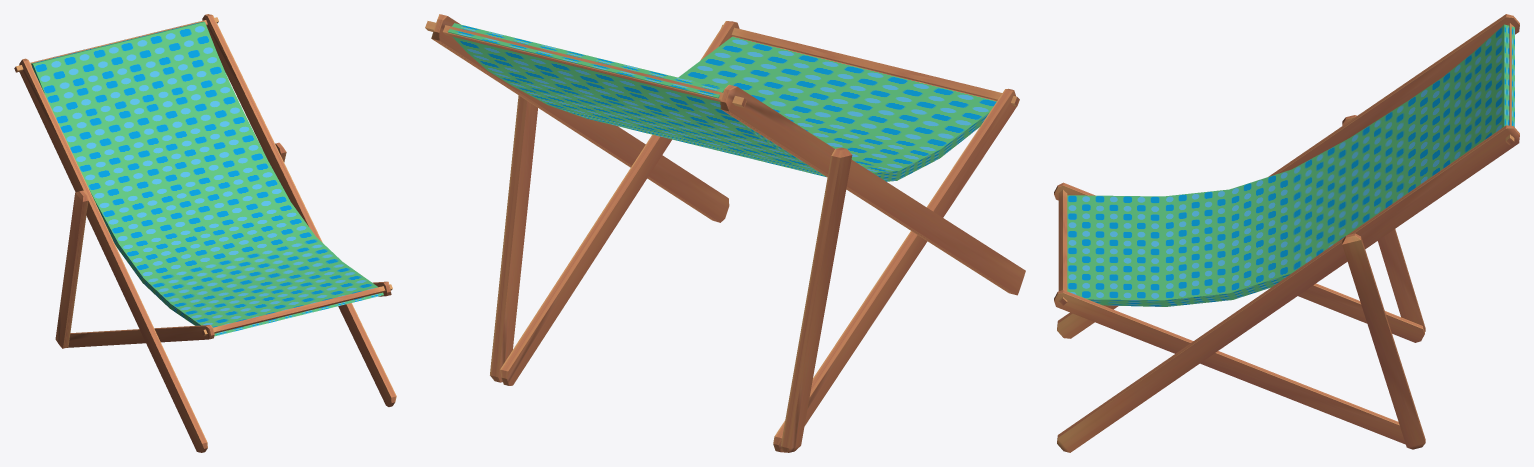
The model's file is lounge-chair-1c.fbx.
3 views of the same model, side by side, from view 1: azimuth 30°, elevation 25°; view 2: azimuth 150°, elevation 25°; view 3: azimuth 270°, elevation 25° (orthographic). The views are drawn at different scales.
Parts seen in each view (by area): view 1: pCube13; view 2: pCube13; view 3: pCube13.
Boxes of the visible parts, x1,y1,x2,y2 form: pCube13: (14,14,396,452); pCube13: (425,14,1025,452); pCube13: (1054,14,1519,452).
Bounding box in the file's own units: 95.3 × 117 × 152.
Materials: 1 (1 with a texture image).
